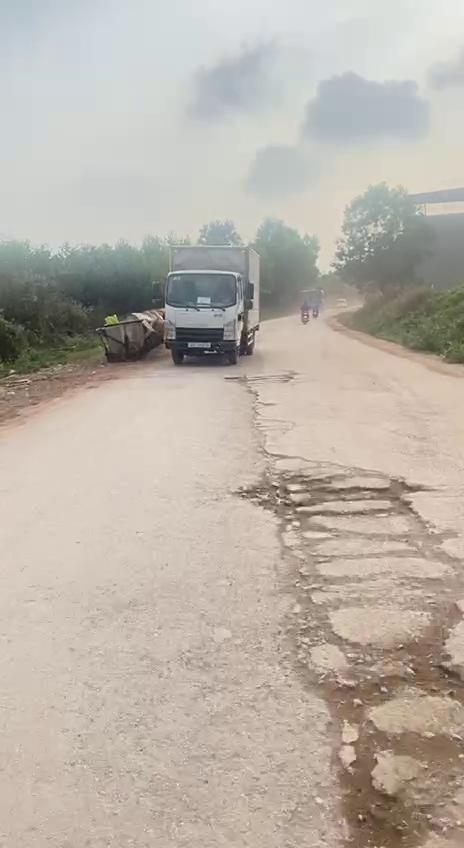pothole: (280, 625, 464, 848), (239, 460, 454, 621)
